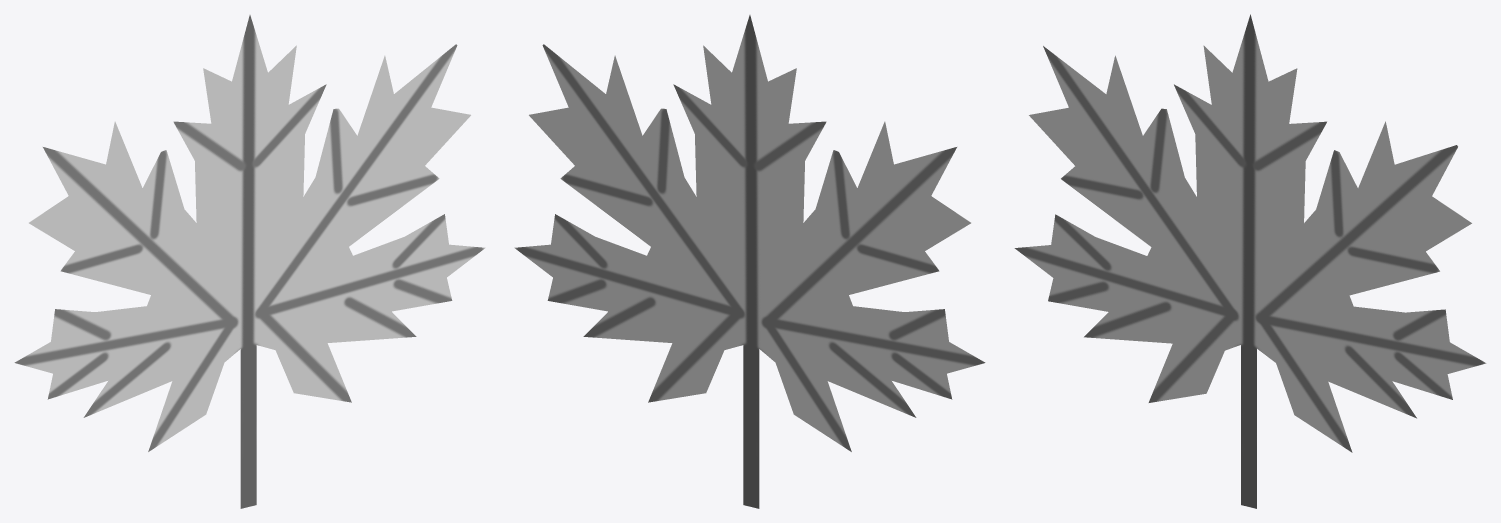
Rendered from Leaf2.gltf.
The picture shows the model from 3 angles, left to right: view 1: azimuth 30°, elevation 25°; view 2: azimuth 150°, elevation 25°; view 3: azimuth 330°, elevation 25°; orthographic projection.
Visible parts, largest first — view 1: Leaf2; view 2: Leaf2; view 3: Leaf2.
Part boxes in pixels (x1,y1,x2,y2): Leaf2: (14, 15, 485, 508); Leaf2: (514, 15, 985, 508); Leaf2: (1014, 14, 1486, 508).
Bounding box in the file's own units: 0.3078 × 0.3073 × 1.07e-08.
Materials: 1 (1 with a texture image).
